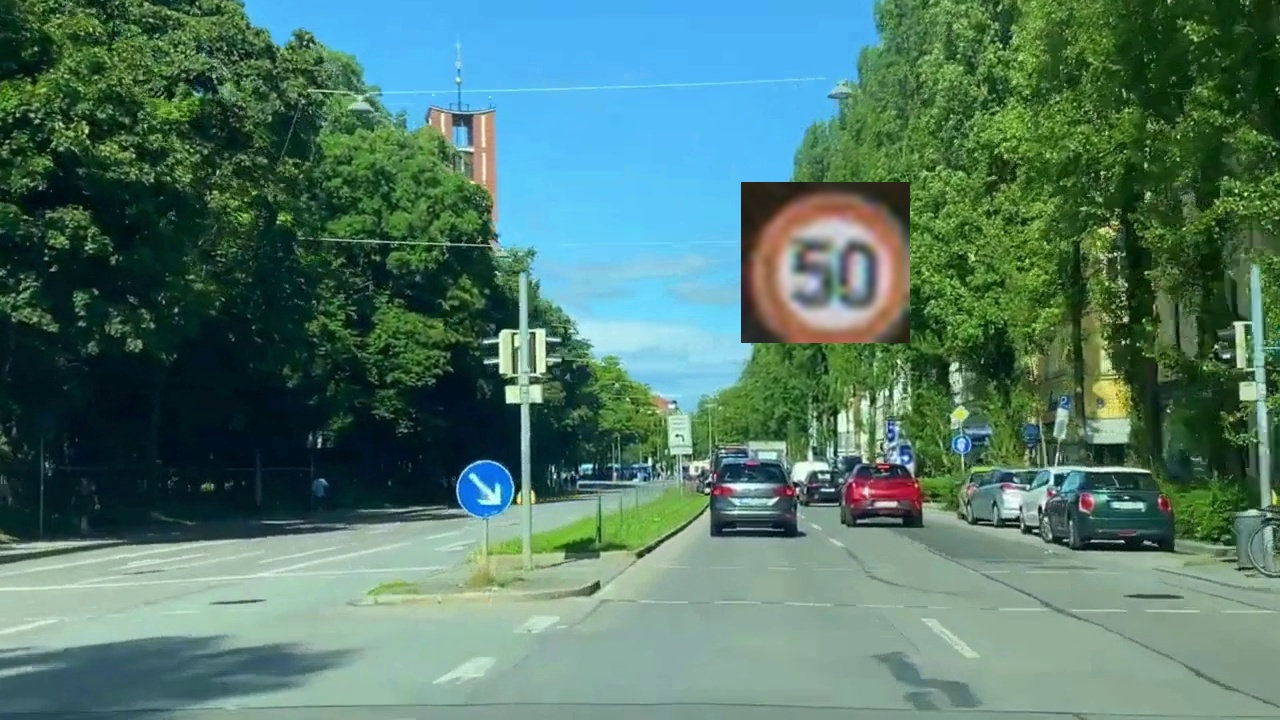Speed 50: (741, 182, 910, 343)
